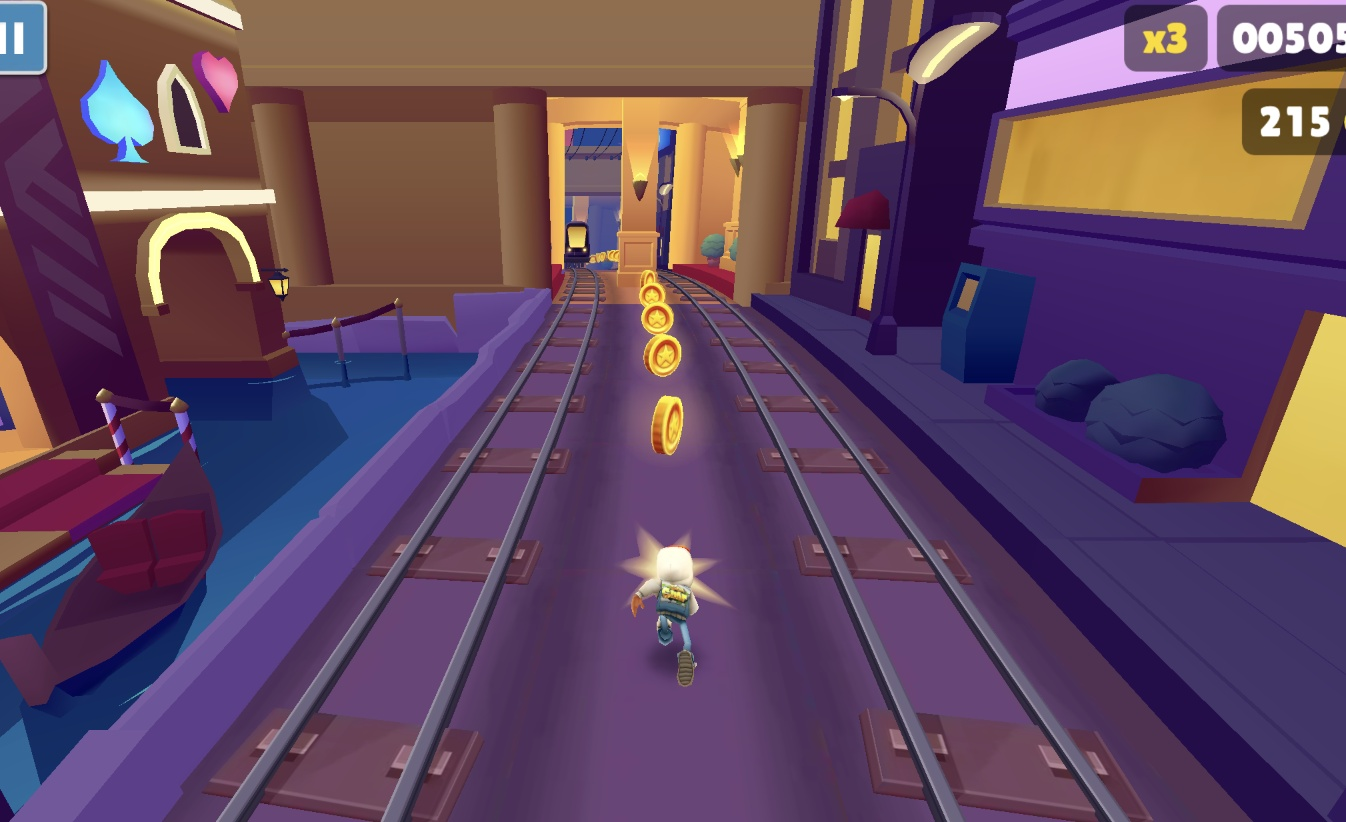pillar: (618, 98, 668, 290)
train: (566, 216, 592, 264)
